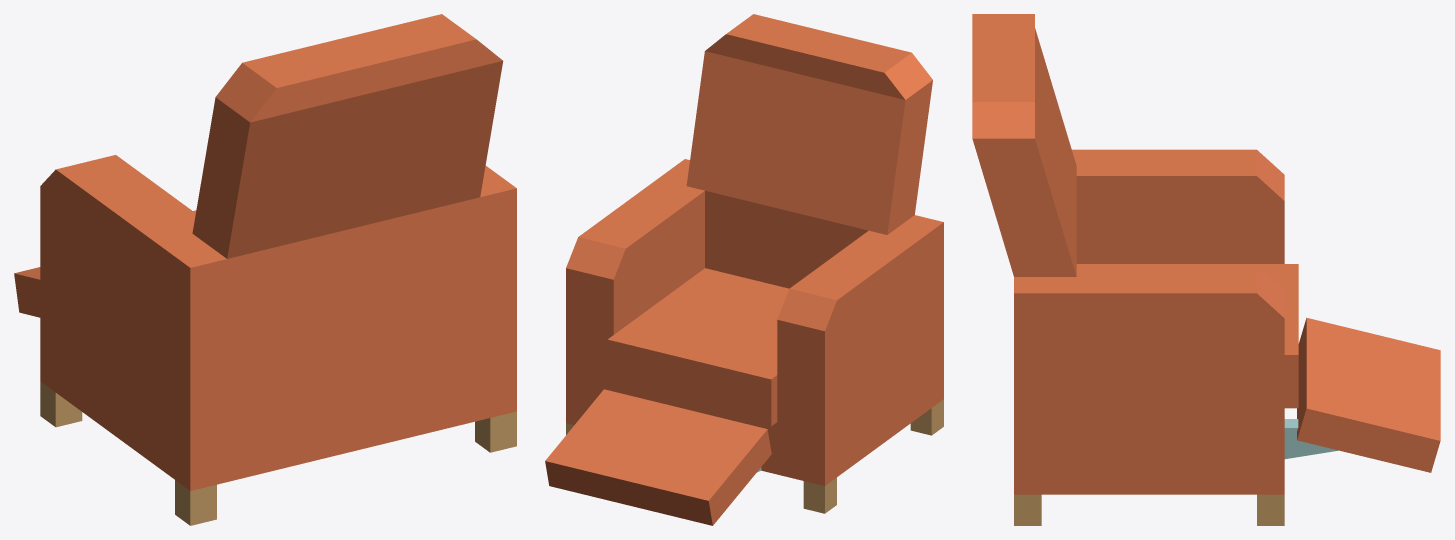
File: loungeChairRelax.glb
The picture shows the model from 3 angles, left to right: view 1: azimuth 30°, elevation 25°; view 2: azimuth 150°, elevation 25°; view 3: azimuth 270°, elevation 25°; orthographic projection. The views are drawn at different scales.
Bounding box in the file's own units: 4.9 × 6.3 × 6.75.
